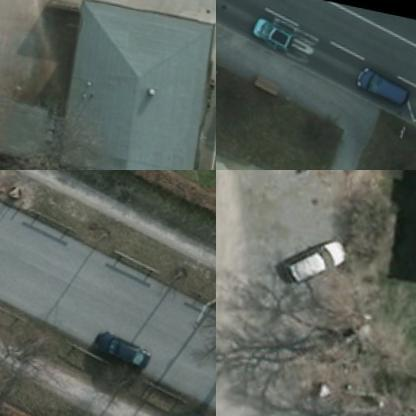car: (276, 223, 354, 294), (350, 58, 408, 104), (89, 324, 148, 364), (249, 10, 297, 48)
